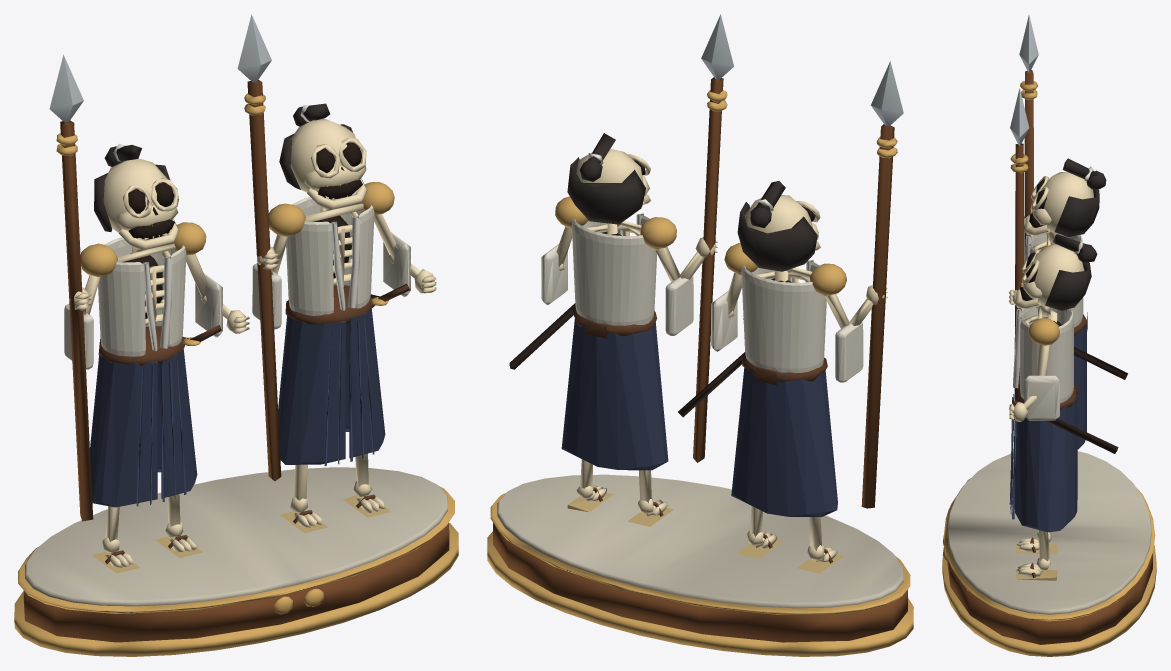
File: samurai_knight_l2.glb
3 renders of one model, left to right at view 1: azimuth 30°, elevation 25°; view 2: azimuth 150°, elevation 25°; view 3: azimuth 270°, elevation 25°, orthographic. The views are drawn at different scales.
Visible parts, largest first — view 1: FixedDetails, WoodBody, BrassTrim; view 2: FixedDetails, WoodBody, BrassTrim; view 3: FixedDetails, WoodBody, BrassTrim.
Boxes of the visible parts, <box> form: FixedDetails: <box>23,14,449,642</box>; WoodBody: <box>25,193,447,606</box>; BrassTrim: <box>14,93,458,656</box>; FixedDetails: <box>493,14,907,642</box>; WoodBody: <box>497,216,903,608</box>; BrassTrim: <box>487,90,913,656</box>; FixedDetails: <box>947,14,1152,644</box>; WoodBody: <box>947,233,1151,614</box>; BrassTrim: <box>942,81,1156,656</box>.
Size of the model in its own units: 0.4355 by 0.5713 by 0.2294.
